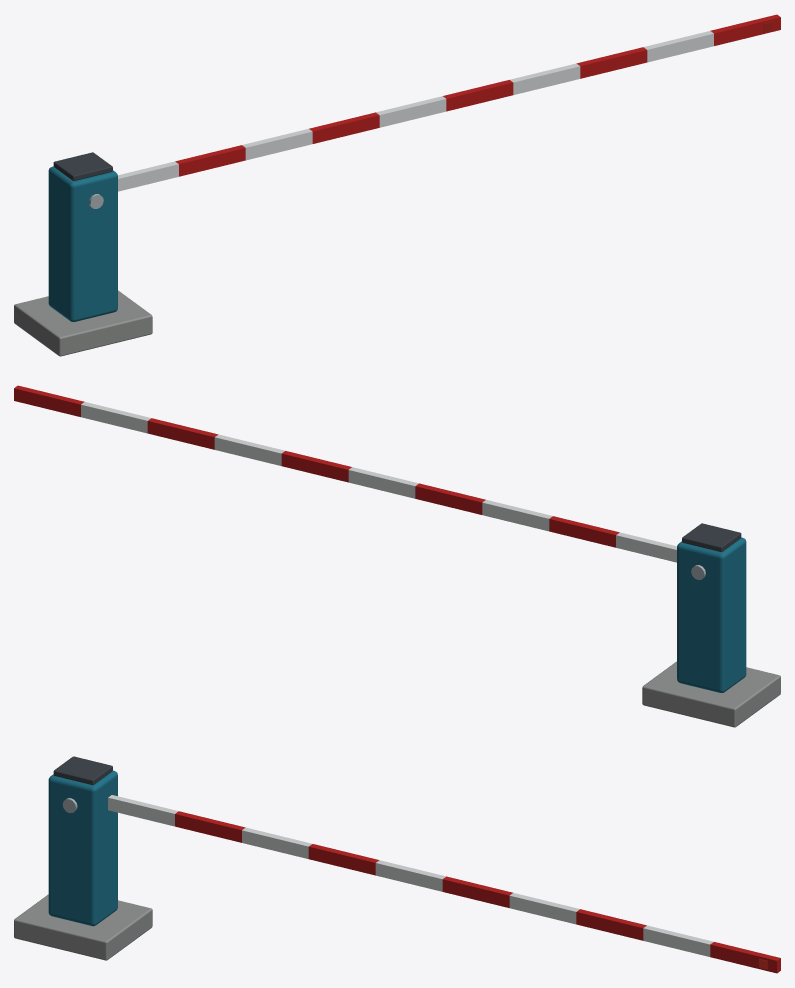
Rendered from boom-barrier.glb.
The picture shows the model from 3 angles, top to bottom: view 1: azimuth 30°, elevation 25°; view 2: azimuth 150°, elevation 25°; view 3: azimuth 330°, elevation 25°; orthographic projection.
Visible parts, largest first — view 1: 道闸; view 2: 道闸; view 3: 道闸.
Boxes of the visible parts, left/top/right/bottom form: 道闸: left=14, top=14, right=780, bottom=356; 道闸: left=14, top=385, right=780, bottom=727; 道闸: left=14, top=756, right=780, bottom=973.
Size of the model in its own units: 5.55 by 1.18 by 0.6003.
Materials: 5 (1 with a texture image).
